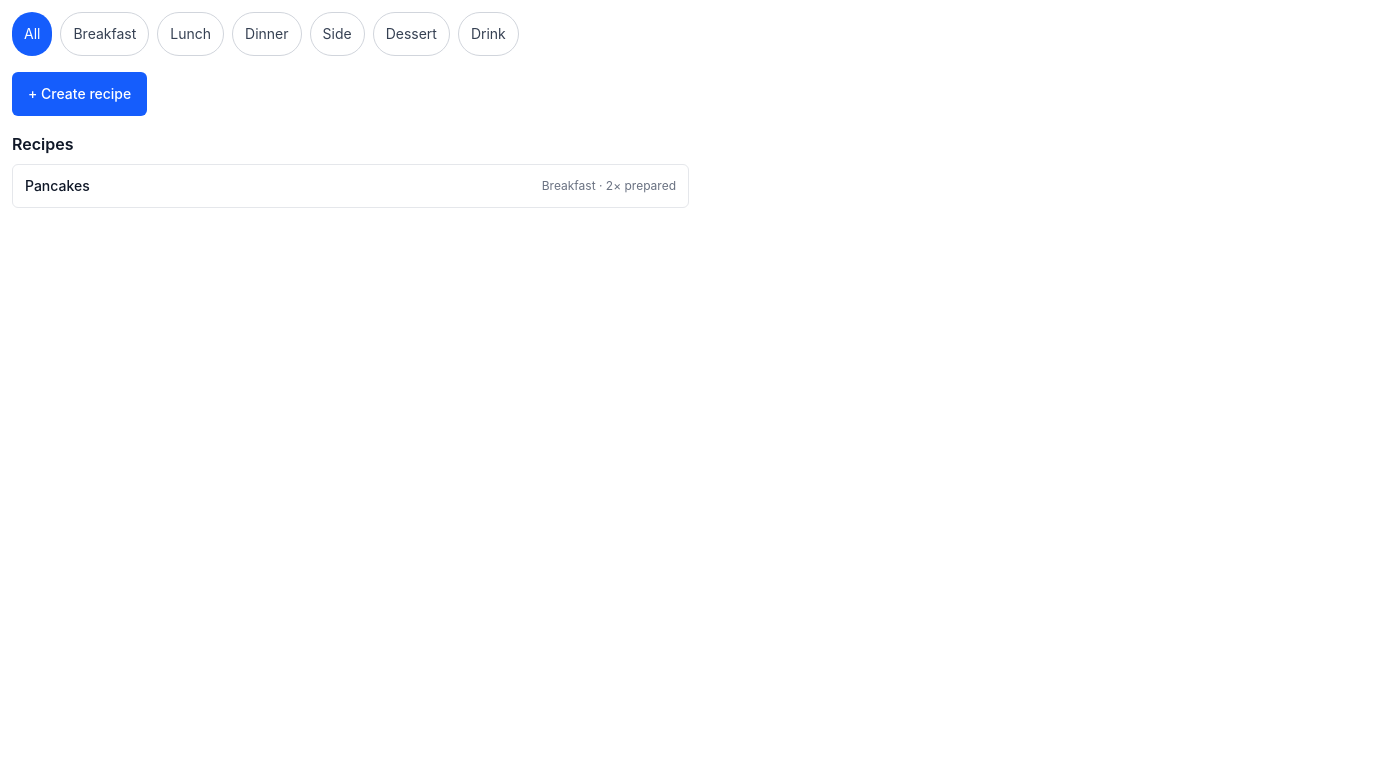
Test case: RecipeBox › opens create mode and returns to the list
Check: the text "Pancakes" is shown, box x1=25 y1=176 x2=90 y2=196
Click the button "+ Create recipe": click(80, 94) x1=12 y1=72 x2=147 y2=116
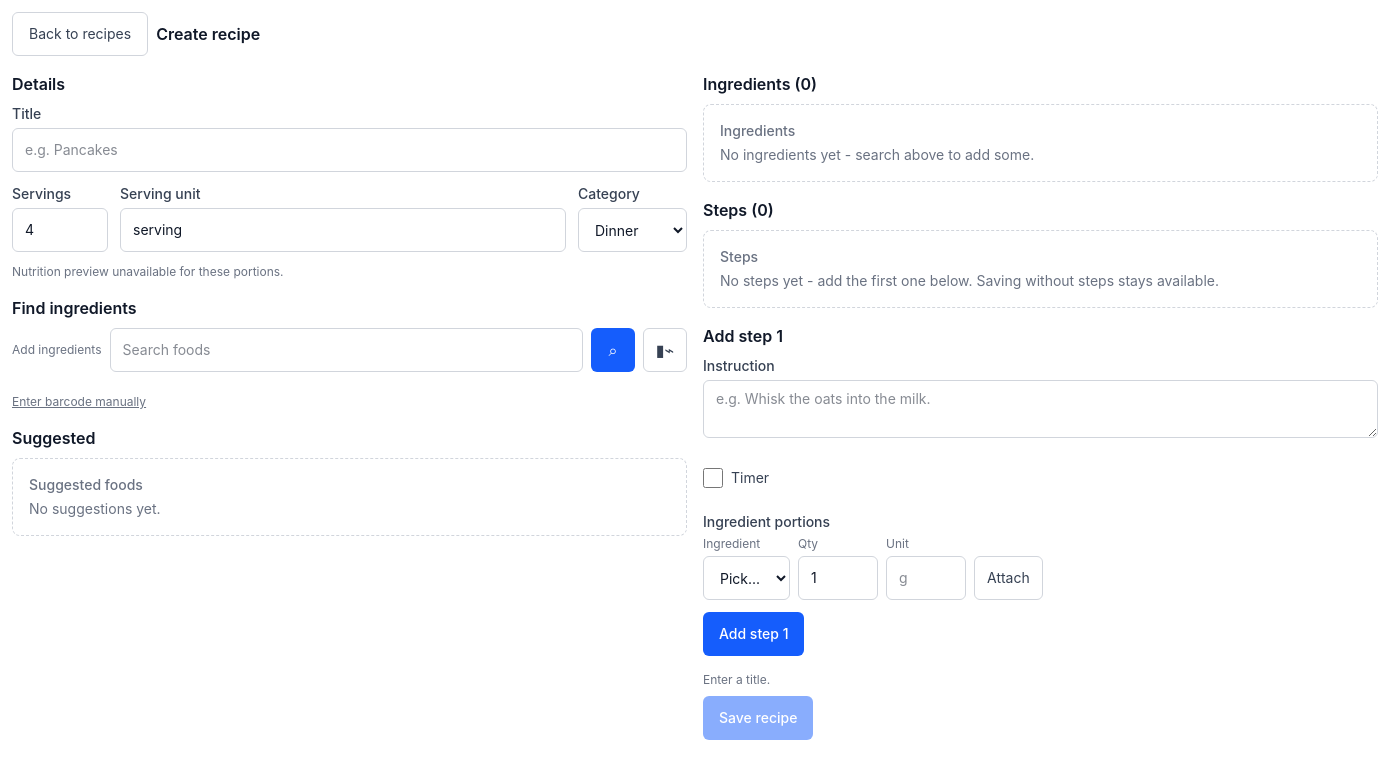
Check: the element with test id "recipe-create" is shown
Check: the field labelled "Title" is shown, box x1=12 y1=128 x2=687 y2=172
Click the button "Back to recipes": click(80, 34) x1=12 y1=12 x2=148 y2=56
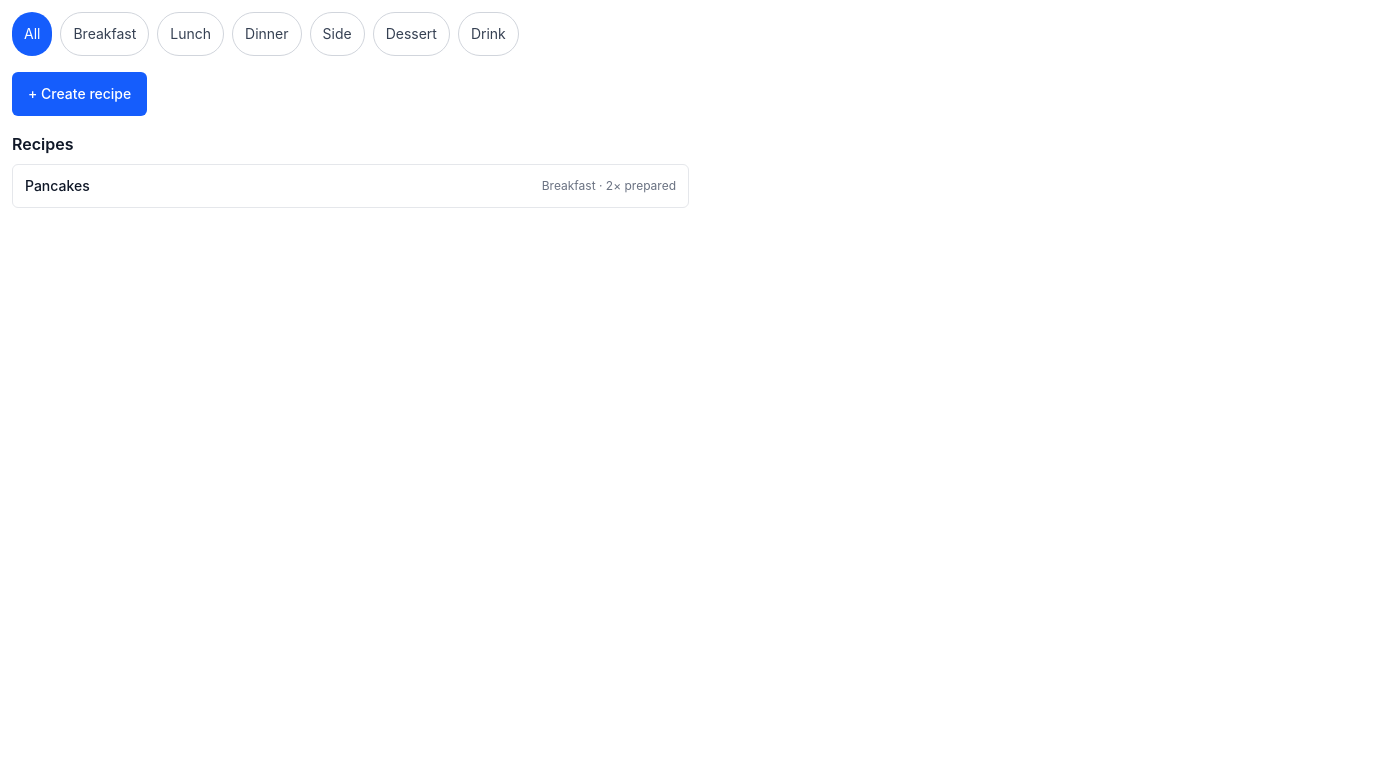
Check: the text "Pancakes" is shown, box x1=25 y1=176 x2=90 y2=196
